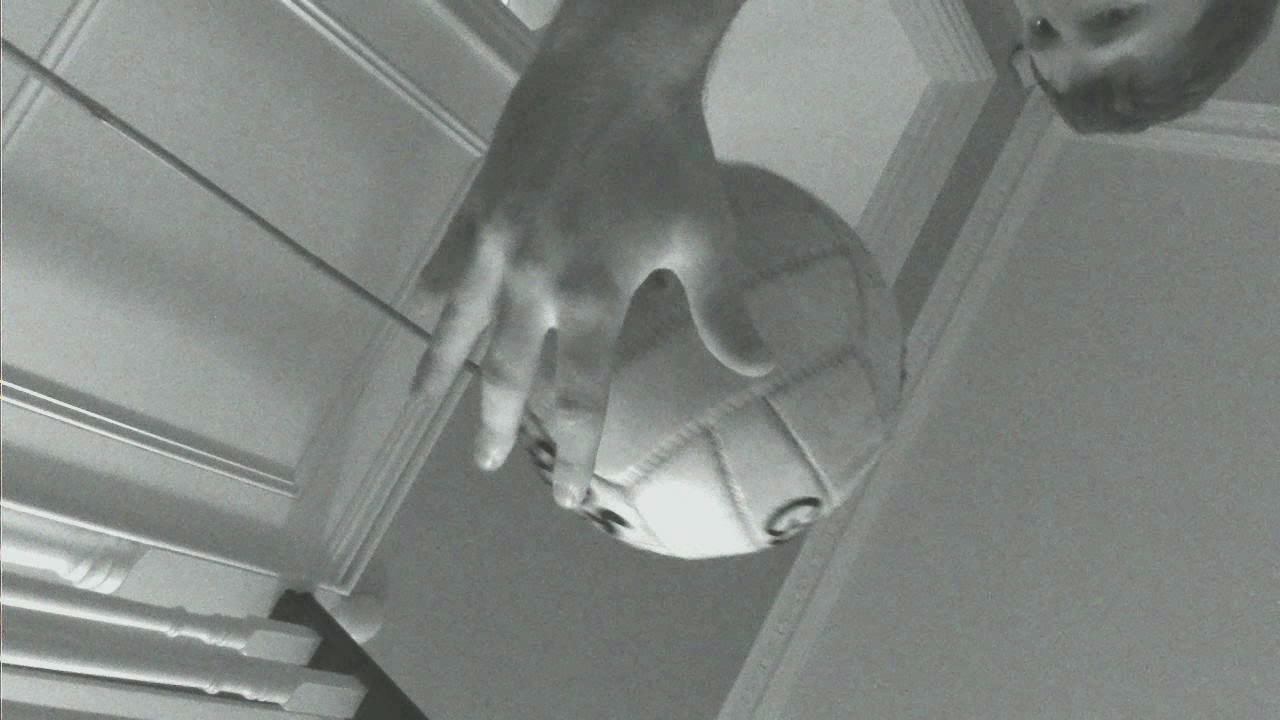Football-Spotter: (584, 164, 903, 558), (520, 377, 558, 478)
